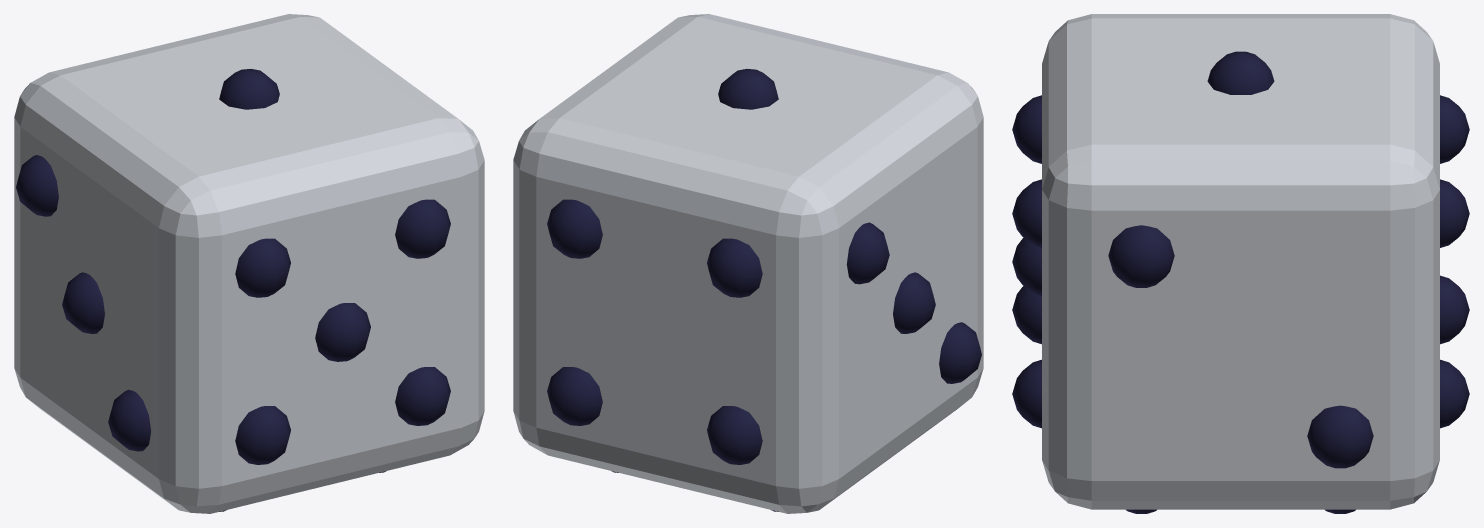
Rendered from Prop_Playroom_Dice.fbx.
The picture shows the model from 3 angles, left to right: view 1: azimuth 30°, elevation 25°; view 2: azimuth 150°, elevation 25°; view 3: azimuth 270°, elevation 25°; orthographic projection. The views are drawn at different scales.
Parts seen in each view (by area): view 1: Prop_Playroom_Dice; view 2: Prop_Playroom_Dice; view 3: Prop_Playroom_Dice.
Part boxes in pixels (bbox=[...]): Prop_Playroom_Dice: bbox=[14, 14, 484, 513]; Prop_Playroom_Dice: bbox=[513, 14, 983, 513]; Prop_Playroom_Dice: bbox=[1012, 14, 1469, 513].
Bounding box in the file's own units: 0.9131 × 0.92 × 0.92.
